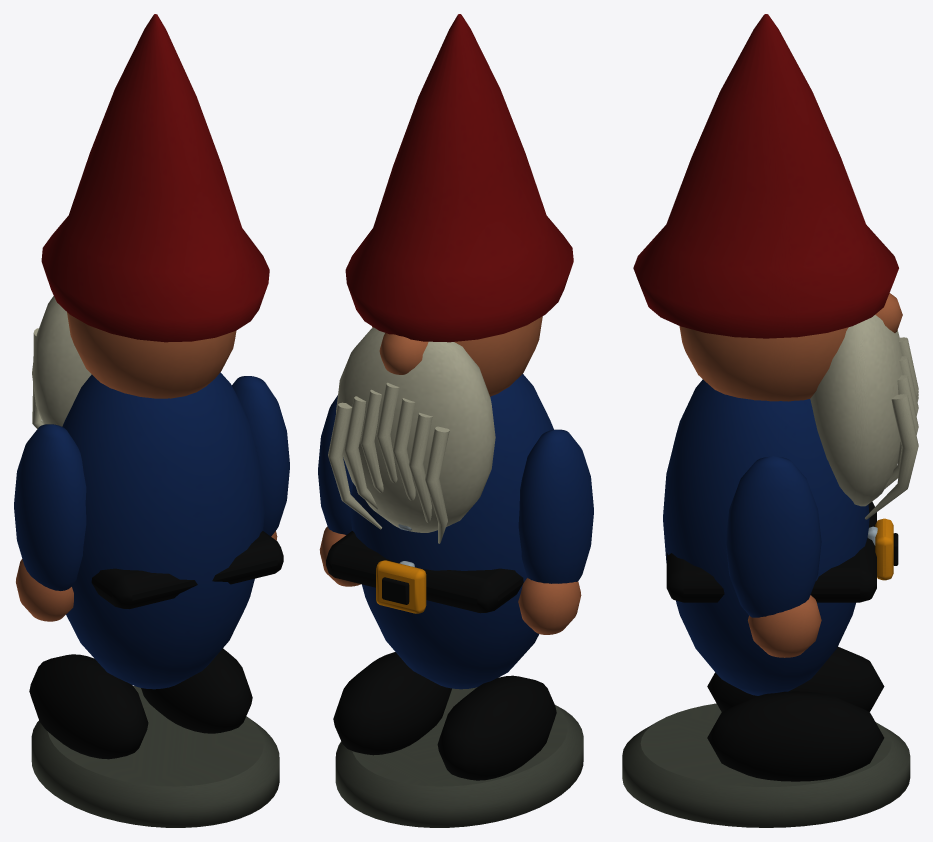
The model's file is GardenGnome.gltf.
The picture shows the model from 3 angles, left to right: view 1: azimuth 30°, elevation 25°; view 2: azimuth 150°, elevation 25°; view 3: azimuth 270°, elevation 25°; orthographic projection.
Parts seen in each view (by area): view 1: GardenGnome__Body; view 2: GardenGnome__Body; view 3: GardenGnome__Body.
Part boxes in pixels (bbox=[...]): GardenGnome__Body: bbox=[14, 14, 289, 827]; GardenGnome__Body: bbox=[318, 14, 593, 827]; GardenGnome__Body: bbox=[622, 14, 918, 827].
Bounding box in the file's own units: 0.2397 × 0.672 × 0.2338.
1 material, 1 textured.
